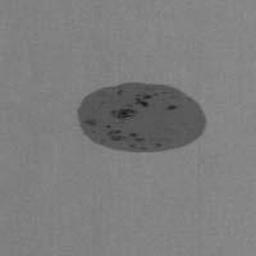Oil spot: (77, 81, 207, 154)
